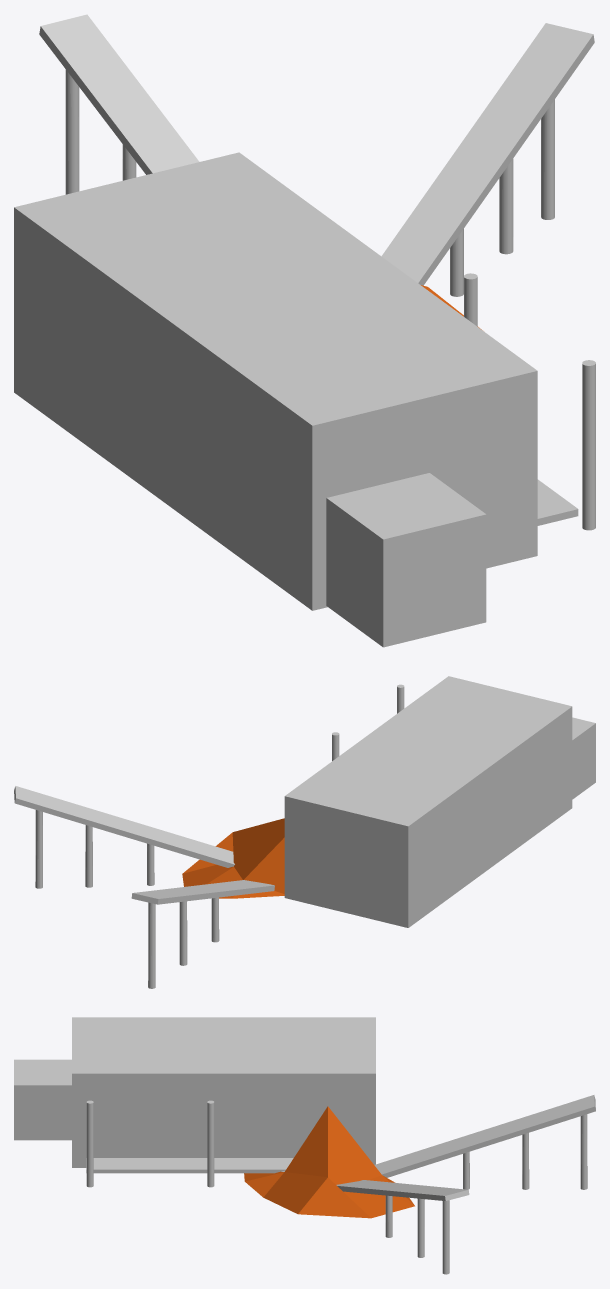
The model's file is mine.fbx.
3 renders of one model, top to bottom at view 1: azimuth 30°, elevation 25°; view 2: azimuth 150°, elevation 25°; view 3: azimuth 270°, elevation 25°, orthographic. The views are drawn at different scales.
Visible parts, largest first — view 1: Cube; view 2: Cube; view 3: Cube.
Part boxes in pixels (bbox=[...]): Cube: bbox=[14, 14, 595, 647]; Cube: bbox=[14, 676, 595, 988]; Cube: bbox=[14, 1017, 595, 1274].
Size of the model in its own units: 6.29 by 1.92 by 9.59.
